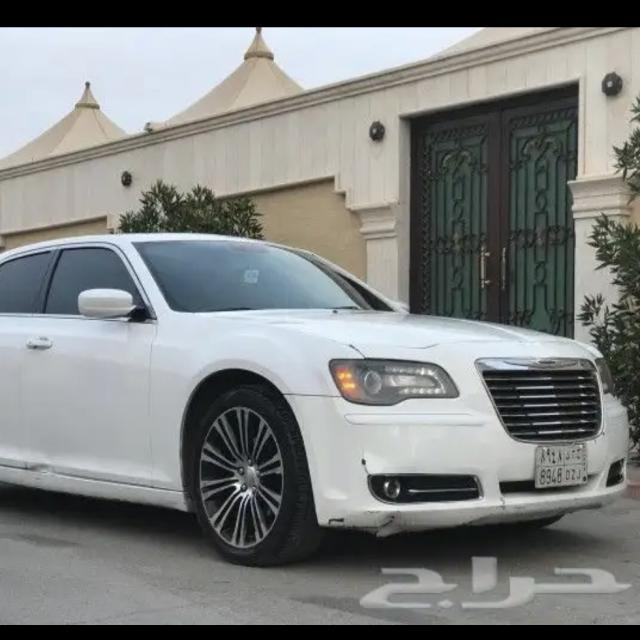license_plate: (536, 443, 590, 488)
